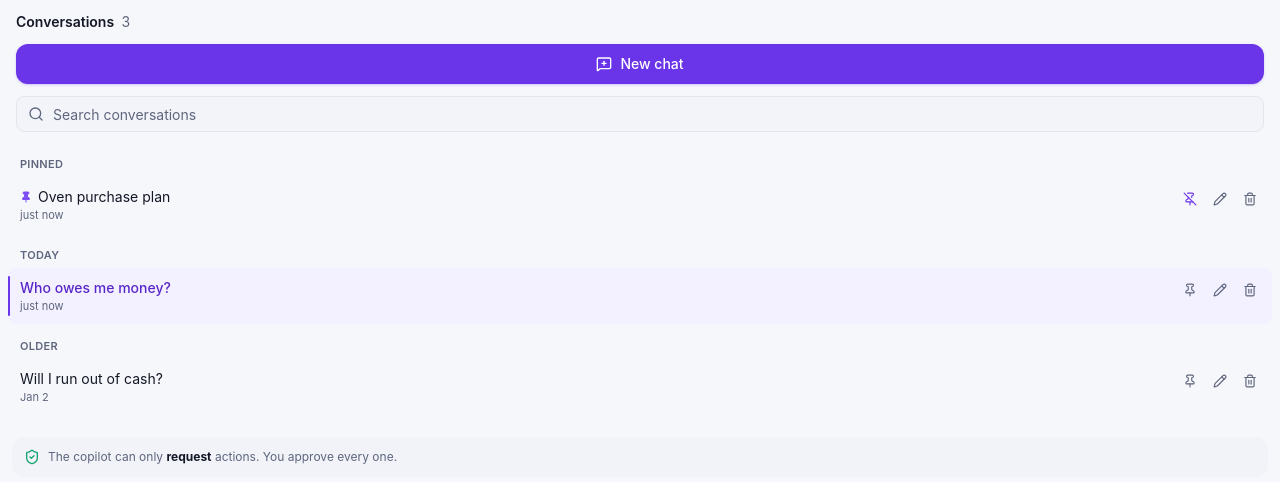
Test: conversation list › says when nothing matches
In the search field: [640, 114] box top-left (16, 96), bottom-right (1264, 132), type "zebra"
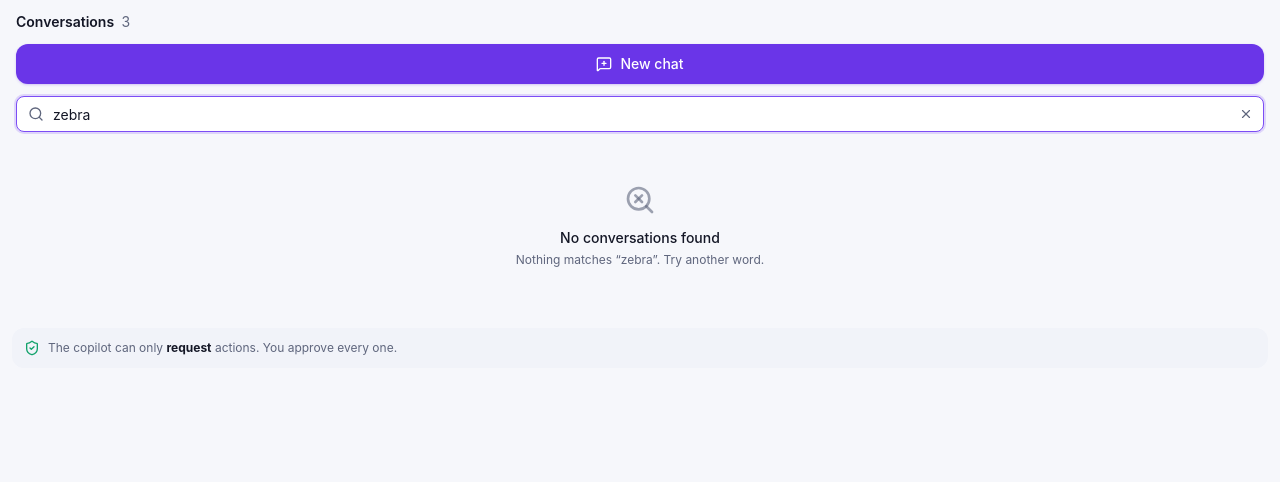
Check: the text "No conversations found" is shown, box top-left (560, 228), bottom-right (720, 248)
